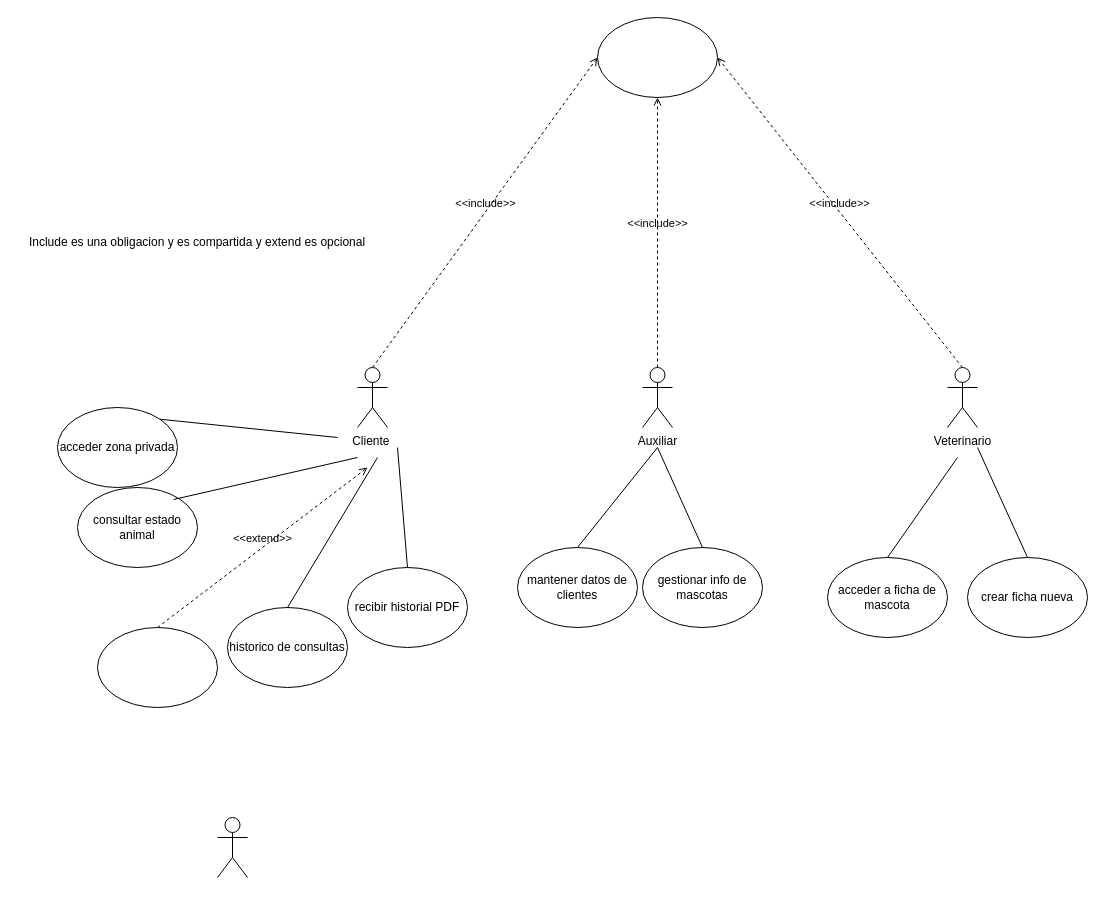
Some shapes in this 1105 by 916 pixel diagram are drawn without their labels. Each missing label, with the box of its shape:
login: (596, 16, 718, 98)
PayPal: (216, 816, 248, 878)
realizar pago mediante paypal: (96, 626, 218, 708)
